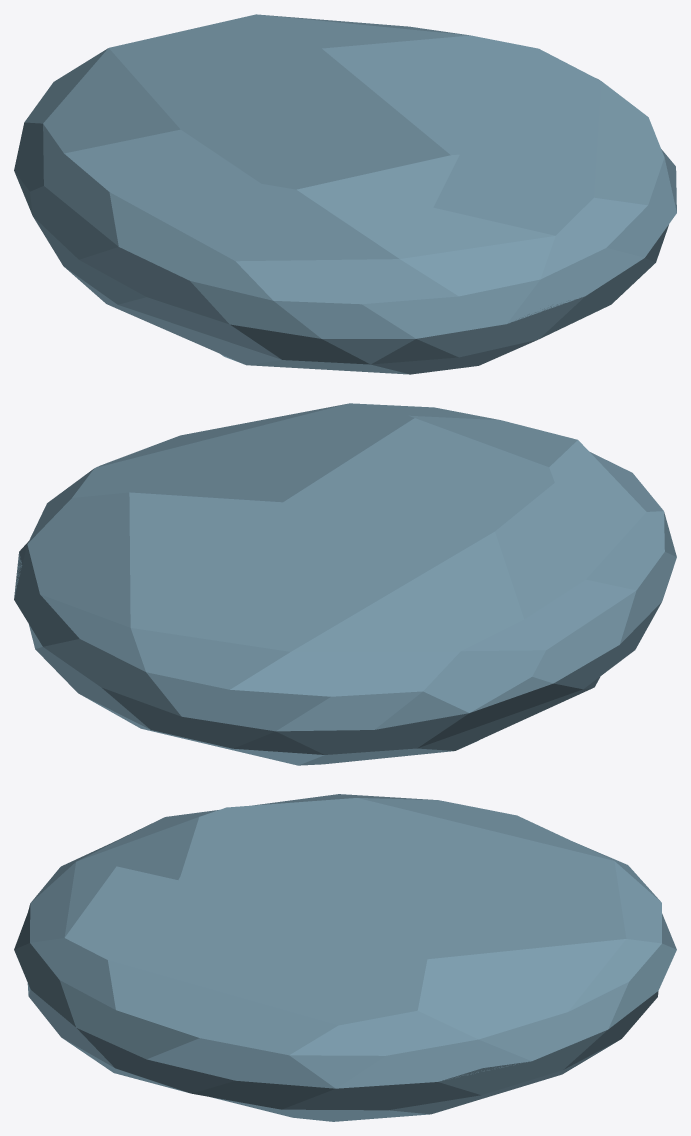
File: rock_001b_reef_boulder.glb
3 views of the same model, one above another, from view 1: azimuth 30°, elevation 25°; view 2: azimuth 150°, elevation 25°; view 3: azimuth 270°, elevation 25° (orthographic). The views are drawn at different scales.
Visible parts, largest first — view 1: rock_001b_reef_boulder__mesh; view 2: rock_001b_reef_boulder__mesh; view 3: rock_001b_reef_boulder__mesh.
Part boxes in pixels (x1,y1,x2,y2): rock_001b_reef_boulder__mesh: (14, 14, 676, 374); rock_001b_reef_boulder__mesh: (14, 403, 676, 765); rock_001b_reef_boulder__mesh: (14, 794, 676, 1121).
Bounding box in the file's own units: 1.85 × 0.5722 × 2.03.
